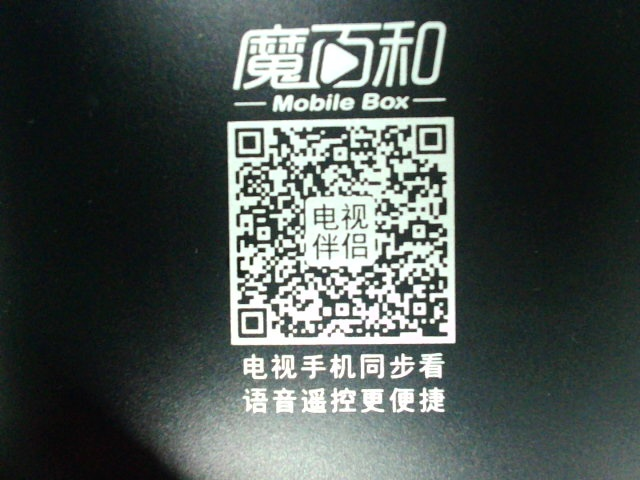AZ_MobileBox: (220, 16, 460, 419)
